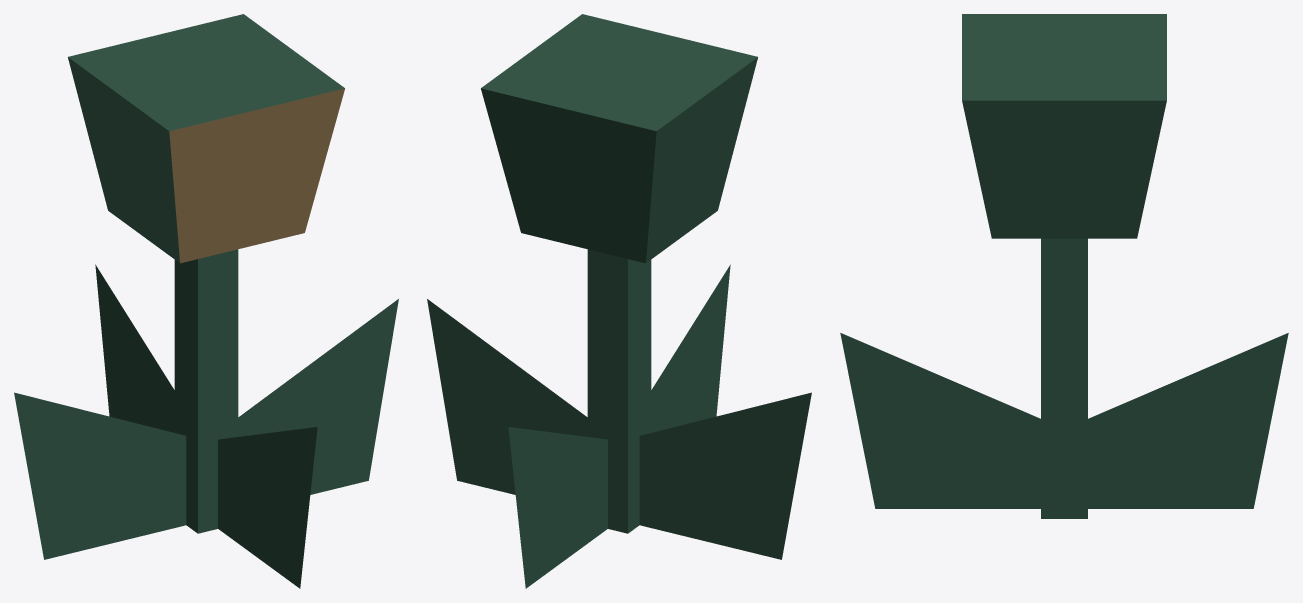
File: Flower_Tall_Yellow_01.obj
3 views of the same model, side by side, from view 1: azimuth 30°, elevation 25°; view 2: azimuth 150°, elevation 25°; view 3: azimuth 270°, elevation 25° (orthographic).
Parts seen in each view (by area): view 1: Mesh1_Flower_Tall_Yellow_Model, Mesh5_Flower_Tall_Yellow_Model, Mesh2_Flower_Tall_Yellow_Model, Mesh4_Flower_Tall_Yellow_Model, Mesh3_Flower_Tall_Yellow_Model; view 2: Mesh1_Flower_Tall_Yellow_Model, Mesh5_Flower_Tall_Yellow_Model, Mesh2_Flower_Tall_Yellow_Model, Mesh3_Flower_Tall_Yellow_Model, Mesh4_Flower_Tall_Yellow_Model; view 3: Mesh1_Flower_Tall_Yellow_Model, Mesh4_Flower_Tall_Yellow_Model, Mesh3_Flower_Tall_Yellow_Model.
Boxes of the visible parts, x1=… form: Mesh1_Flower_Tall_Yellow_Model: x1=68, y1=14, x2=344, y2=533; Mesh5_Flower_Tall_Yellow_Model: x1=14, y1=392, x2=186, y2=559; Mesh2_Flower_Tall_Yellow_Model: x1=238, y1=299, x2=398, y2=494; Mesh4_Flower_Tall_Yellow_Model: x1=218, y1=427, x2=317, y2=588; Mesh3_Flower_Tall_Yellow_Model: x1=95, y1=264, x2=174, y2=432; Mesh1_Flower_Tall_Yellow_Model: x1=481, y1=14, x2=757, y2=533; Mesh5_Flower_Tall_Yellow_Model: x1=639, y1=392, x2=811, y2=559; Mesh2_Flower_Tall_Yellow_Model: x1=427, y1=299, x2=587, y2=494; Mesh3_Flower_Tall_Yellow_Model: x1=508, y1=427, x2=607, y2=588; Mesh4_Flower_Tall_Yellow_Model: x1=651, y1=264, x2=730, y2=432; Mesh1_Flower_Tall_Yellow_Model: x1=962, y1=14, x2=1166, y2=518; Mesh4_Flower_Tall_Yellow_Model: x1=840, y1=333, x2=1040, y2=508; Mesh3_Flower_Tall_Yellow_Model: x1=1088, y1=333, x2=1288, y2=508.
Size of the model in its own units: 0.4859 by 0.54 by 0.4859.
